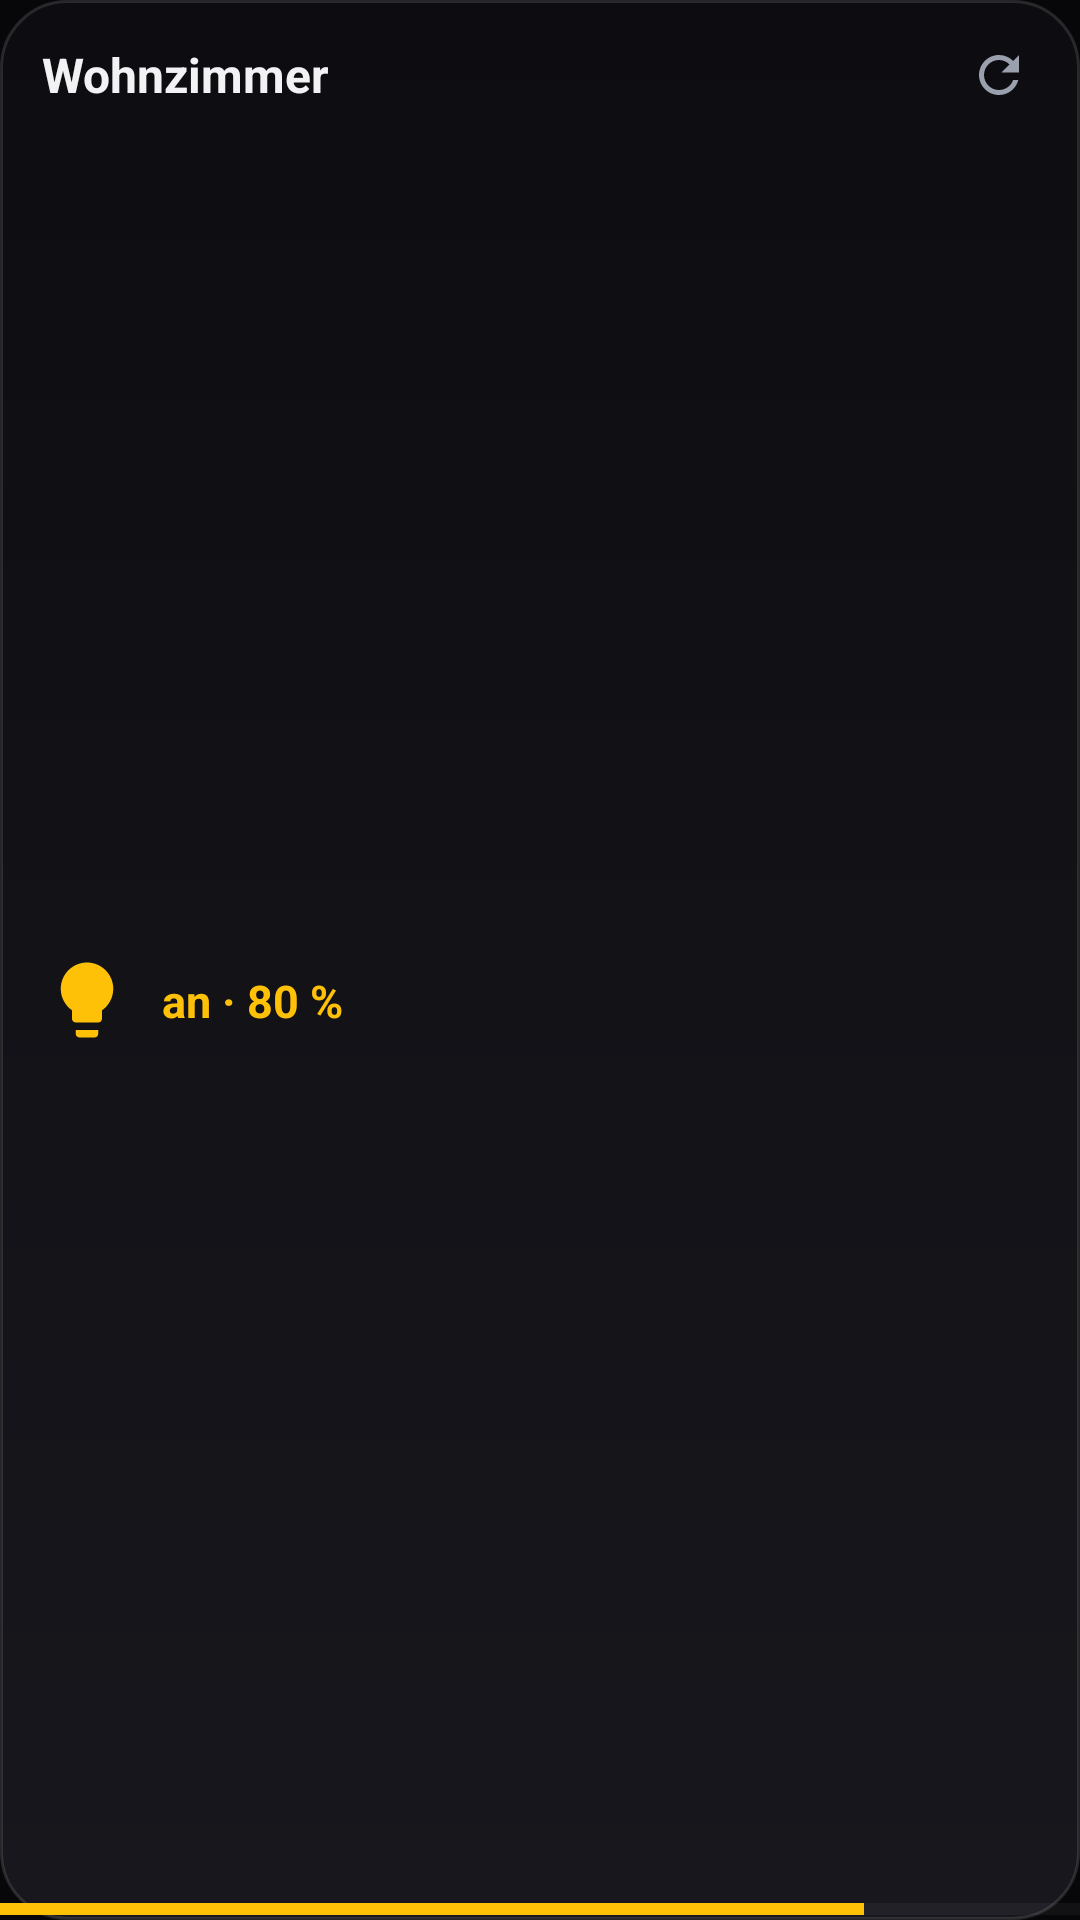

Screen size 1080×1920. Icon name, then its center in pixels as (x,y):
Aktualisieren: (999,75)
